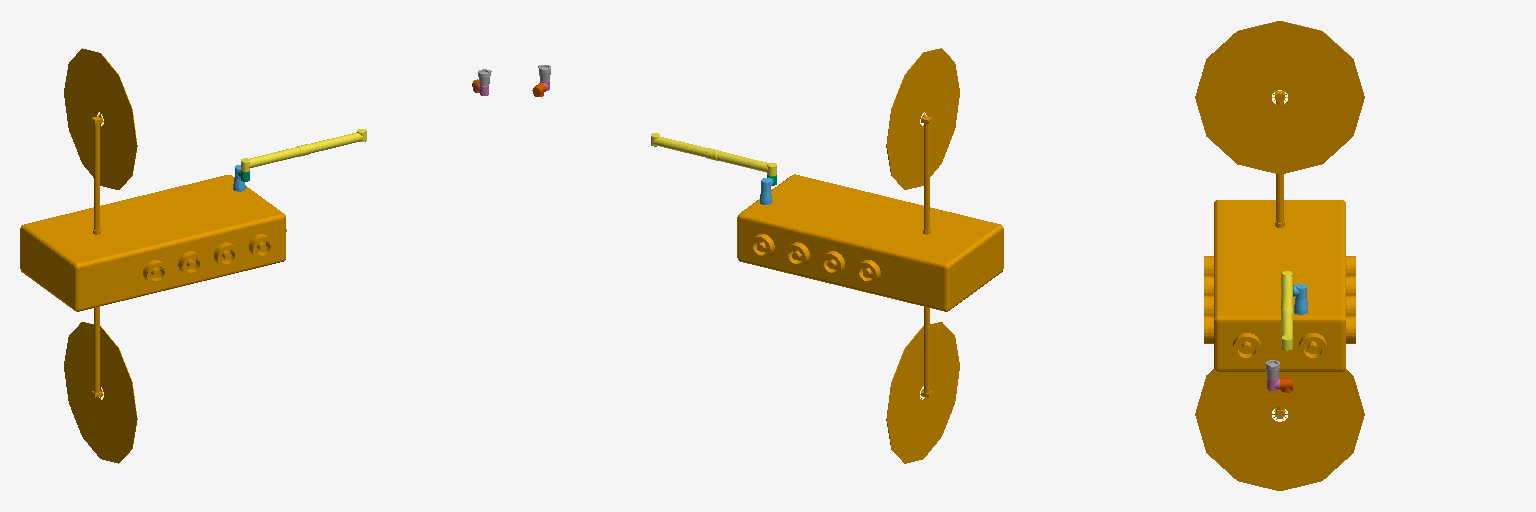
The robot description file, URDF, robot "Concept3":
<?xml version='1.0' encoding='utf-8'?>
<robot name="Concept3">


	<link name="world">
	</link>

    <link name="c3l1">
        <inertial>
            <origin xyz="8.526512829121202e-16 -0.0037584313507201374 0.14346915449423236" rpy="0.0 -0.0 0.0" />
            <mass value="10" />
            <inertia ixx="0.093957645" iyy="0.092533628" izz="0.023952962" ixy="0" iyz="0.003822612" ixz="0" />
        </inertial>
        <visual name="c3l1_visual">
            <origin xyz="8.526512829121202e-16 1.0658141036401502e-16 2.1316282072803005e-16" rpy="8.701290973582882e-16 4.996003610813204e-16 4.93038065763133e-32" />
            <geometry>
                <mesh filename="meshes/c3l1.stl" scale="0.001 0.001 0.001" />
            </geometry>
        </visual>
        <collision name="c3l1_collision">
            <origin xyz="8.526512829121202e-16 1.0658141036401502e-16 2.1316282072803005e-16" rpy="8.701290973582882e-16 4.996003610813204e-16 4.93038065763133e-32" />
            <geometry>
                <mesh filename="meshes/c3l1.stl" scale="0.001 0.001 0.001" />
            </geometry>
        </collision>
    </link>
    <link name="c3l2">
        <inertial>
            <origin xyz="0.0 0.006585910132475519 0.06576544520774308" rpy="0.0 4.3180842775472223e-78 0.0" />
            <mass value="5" />
            <inertia ixx="0.013269823" iyy="0.011773252 " izz="0.011031115" ixy="0" iyz="0.000312253" ixz="0" />
        </inertial>
        <visual name="c3l2_visual">
            <origin xyz="0.0 0.0 0.07500000000000101" rpy="-1.5707963267948966 -7.077671781985379e-16 -1.2325951644078318e-31" />
            <geometry>
                <mesh filename="meshes/c3l2.stl" scale="0.001 0.001 0.001" />
            </geometry>
        </visual>
        <collision name="c3l2_collision">
            <origin xyz="0.0 0.0 0.07500000000000101" rpy="-1.5707963267948966 -7.077671781985379e-16 -1.2325951644078318e-31" />
            <geometry>
                <mesh filename="meshes/c3l2.stl" scale="0.001 0.001 0.001" />
            </geometry>
        </collision>
    </link>
    <link name="c3l3">
        <inertial>
            <origin xyz="0.8249999999999992 -1.1457501614131616e-15 0.07500000000000127" rpy="0.0 -0.0 1.0947644252537636e-47" />
            <mass value="70" />
            <inertia ixx="0.135221913" iyy="18.786878431" izz="18.780968309" ixy="0" iyz="0" ixz="-0.065405352 " />
        </inertial>
        <visual name="c3l3_visual">
            <origin xyz="0.0 -9.681144774731366e-16 0.0" rpy="2.1704621884219855e-16 -1.670348444641218e-15 -2.0816681711721742e-16" />
            <geometry>
                <mesh filename="meshes/c3l3.stl" scale="0.001 0.001 0.001" />
            </geometry>
        </visual>
        <collision name="c3l3_collision">
            <origin xyz="0.0 -9.681144774731366e-16 0.0" rpy="2.1704621884219855e-16 -1.670348444641218e-15 -2.0816681711721742e-16" />
            <geometry>
                <mesh filename="meshes/c3l3.stl" scale="0.001 0.001 0.001" />
            </geometry>
        </collision>
    </link>
    <link name="c3l4">
        <inertial>
            <origin xyz="0.8249999999999994 5.861977570020827e-16 0.07500000000000143" rpy="0.0 -0.0 9.588073174408787e-94" />
            <mass value="70" />
            <inertia ixx="0.135221913" iyy="18.786878431" izz="18.780968309" ixy="0" iyz="0" ixz="-0.065405352 " />
		</inertial>
        <visual name="c3l4_visual">
            <origin xyz="0.0 7.105427357601002e-17 8.526512829121202e-16" rpy="-2.795132682188865e-17 -5.878809956316921e-16 6.245004513516519e-16" />
            <geometry>
                <mesh filename="meshes/c3l4.stl" scale="0.001 0.001 0.001" />
            </geometry>
        </visual>
        <collision name="c3l4_collision">
            <origin xyz="0.0 7.105427357601002e-17 8.526512829121202e-16" rpy="-2.795132682188865e-17 -5.878809956316921e-16 6.245004513516519e-16" />
            <geometry>
                <mesh filename="meshes/c3l4.stl" scale="0.001 0.001 0.001" />
            </geometry>
        </collision>
    </link>
    <link name="c3l5">
        <inertial>
            <origin xyz="0.0 -0.006585910132474578 0.0657654452077432" rpy="0.0 -0.0 8.636168555094445e-78" />
            <mass value="5" />
            <inertia ixx="0.013269823" iyy="0.011031115" izz="0.011773252" ixy="0" iyz="0.000312253" ixz="0" />
        </inertial>
        <visual name="c3l5_visual">
            <origin xyz="0.0 1.0480505352461477e-15 0.07500000000000114" rpy="-1.6258281659347372e-16 1.6937806807007838e-14 6.106226635438358e-16" />
            <geometry>
                <mesh filename="meshes/c3l5.stl" scale="0.001 0.001 0.001" />
            </geometry>
        </visual>
        <collision name="c3l5_collision">
            <origin xyz="0.0 1.0480505352461477e-15 0.07500000000000114" rpy="-1.6258281659347372e-16 1.6937806807007838e-14 6.106226635438358e-16" />
            <geometry>
                <mesh filename="meshes/c3l5.stl" scale="0.001 0.001 0.001" />
            </geometry>
        </collision>
    </link>
    <link name="c3l6">
        <inertial>
            <origin xyz="1.7053025658242404e-15 0.006585910132477153 0.06576544520774098" rpy="0.0 -0.0 0.0" />
            <mass value="5" />
            <inertia ixx="0.013269823" iyy="0.011773252" izz="0.011031115" ixy="0" iyz="0.000312253" ixz="0" />
        </inertial>
        <visual name="c3l6_visual">
            <origin xyz="1.7053025658242404e-15 1.5631940186722204e-15 0.0749999999999989" rpy="-1.5707963267948968 1.0304257447302252e-15 -1.6937806807007838e-14" />
            <geometry>
                <mesh filename="meshes/c3l6.stl" scale="0.001 0.001 0.001" />
            </geometry>
        </visual>
        <collision name="c3l6_collision">
            <origin xyz="1.7053025658242404e-15 1.5631940186722204e-15 0.0749999999999989" rpy="-1.5707963267948968 1.0304257447302252e-15 -1.6937806807007838e-14" />
            <geometry>
                <mesh filename="meshes/c3l6.stl" scale="0.001 0.001 0.001" />
            </geometry>
        </collision>
    </link>
    <link name="c3l7">
        <inertial>
            <origin xyz="0.0004721742794419015 1.1102230246251565e-15 0.08749355081144827" rpy="0.0 -0.0 0.0" />
            <mass value="15" />
            <inertia ixx="0.051234919" iyy="0.051792820" izz="0.038875377" ixy="0" iyz="0" ixz="-0.000499574 " />
        </inertial>
        <visual name="c3l7_visual">
            <origin xyz="-5.684341886080802e-16 1.1102230246251565e-15 1.5631940186722204e-15" rpy="-5.24878483234987e-16 -5.217678062940007e-16 1.0304257447302283e-15" />
            <geometry>
                <mesh filename="meshes/c3l7.stl" scale="0.001 0.001 0.001" />
            </geometry>
        </visual>
        <collision name="c3l7_collision">
            <origin xyz="-5.684341886080802e-16 1.1102230246251565e-15 1.5631940186722204e-15" rpy="-5.24878483234987e-16 -5.217678062940007e-16 1.0304257447302283e-15" />
            <geometry>
                <mesh filename="meshes/c3l7.stl" scale="0.001 0.001 0.001" />
            </geometry>
        </collision>
    </link>
    <link name="Concept3">
        <inertial>
            <origin xyz="-0.0050710428497891214 -1.2525758052656716e-05 -1.78168660268183e-05" rpy="0.0 0.0 0.0" />
            <mass value="3000" />
            <inertia ixx="776.884687974 " iyy="2512.766344178" izz="2739.139931228" ixy="0.050918524" iyz="0.012030842 " ixz="0.072434772" />
        </inertial>
        <visual name="Concept3_visual">
            <origin xyz="0.0 0.0 0.0" rpy="0.0 0.0 0.0" />
            <geometry>
                <mesh filename="meshes/Concept3.stl" scale="0.001 0.001 0.001" />
            </geometry>
        </visual>
        <collision name="Concept3_collision">
            <origin xyz="0.0 0.0 0.0" rpy="0.0 0.0 0.0" />
            <geometry>
                <mesh filename="meshes/Concept3.stl" scale="0.001 0.001 0.001" />
            </geometry>
        </collision>
    </link>
	
		
	<joint name="world_to_base" type="floating">
        <parent link="world"/>
		<child link="Concept3"/>
		<origin xyz="0 0 0" rpy="0 0 0"/>
		</joint>
		
	
    <joint name="Concept3_회전-1" type="continuous">
        <origin xyz="1.35 0.225 0.325" rpy="0.0 -0.0 0.0" />
        <parent link="Concept3" />
        <child link="c3l1" />
        <axis xyz="0.0 0.0 1.0" />
    </joint>
    <joint name="c3l1_회전-2" type="continuous">
        <origin xyz="0.0 -0.075 0.245" rpy="1.5707963267948966 -9.860761315262648e-32 1.4026901369550394e-48" />
        <parent link="c3l1" />
        <child link="c3l2" />
        <axis xyz="-1.4026901369550394e-48 4.3790577010150533e-47 1.0" />
    </joint>
    <joint name="c3l2_회전-3" type="continuous">
        <origin xyz="0.0 0.075 0.075" rpy="-1.5707963267948966 9.86076131526265e-32 -9.860761315262646e-32" />
        <parent link="c3l2" />
        <child link="c3l3" />
        <axis xyz="5.473822126268817e-48 0.0 0.9999999999999999" />
    </joint>
    <joint name="c3l3_회전-4" type="continuous">
        <origin xyz="1.6500000000000001 0.0 0.15" rpy="-5.069189531742769e-81 1.9721522630525295e-31 -7.3955709864472e-32" />
        <parent link="c3l3" />
        <child link="c3l4" />
        <axis xyz="-1.9721522630525295e-31 0.0 1.0" />
    </joint>
    <joint name="c3l4_회전-5" type="continuous">
        <origin xyz="1.6500000000000001 0.0 0.15" rpy="-4.937594190011108e-63 -9.860761315262648e-32 -1.2325951644078088e-31" />
        <parent link="c3l4" />
        <child link="c3l5" />
        <axis xyz="-9.860761315262648e-32 0.0 1.0" />
    </joint>
    <joint name="c3l5_회전-6" type="continuous">
        <origin xyz="0.0 -0.075 0.075" rpy="1.5707963267948966 -9.860761315262648e-32 9.860761315248625e-32" />
        <parent link="c3l5" />
        <child link="c3l6" />
        <axis xyz="1.401645021846323e-43 -1.401298464324817e-45 1.0" />
    </joint>
    <joint name="c3l6_회전-7" type="continuous">
        <origin xyz="0.0 0.075 0.075" rpy="-1.5707963267948966 4.286302351388106e-32 0.0" />
        <parent link="c3l6" />
        <child link="c3l7" />
        <axis xyz="0.0 0.0 1.0" />
    </joint>
</robot>

--- Render facts (derived) ---
The picture shows the robot from 3 angles, left to right: view 1: azimuth 30°, elevation 25°; view 2: azimuth 150°, elevation 25°; view 3: azimuth 270°, elevation 25°; orthographic projection.
Model Concept3 with 9 links and 8 joints (7 continuous, 1 floating), rooted at world, posed every joint at zero.
Visible links, largest first — view 1: Concept3, c3l3; view 2: Concept3, c3l3; view 3: Concept3, c3l3.
Boxes of the visible links, box(x1,y1,x2,y2) form: Concept3: box(20, 48, 286, 463); c3l3: box(241, 129, 366, 171); Concept3: box(737, 48, 1003, 463); c3l3: box(651, 133, 776, 175); Concept3: box(1195, 21, 1364, 490); c3l3: box(1281, 271, 1292, 350).
Bounding box of the posed robot: 6.24 × 1.8 × 5.5 m (x, y, z).
Meshes: 8 distinct files referenced, 7 mesh visuals loaded (7 binary STL); not drawn: 1 (reference not matched to a file when rendering).
